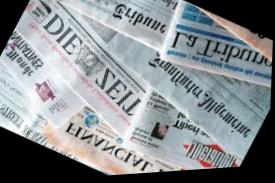paper: (0, 0, 275, 183), (79, 8, 274, 169), (0, 0, 169, 148), (33, 81, 237, 180), (0, 51, 150, 183), (144, 0, 275, 117), (116, 79, 256, 175), (0, 23, 105, 140), (29, 0, 184, 59), (182, 1, 274, 82)
